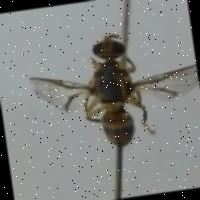Oriental-fruit-fly: (6, 15, 200, 168)
